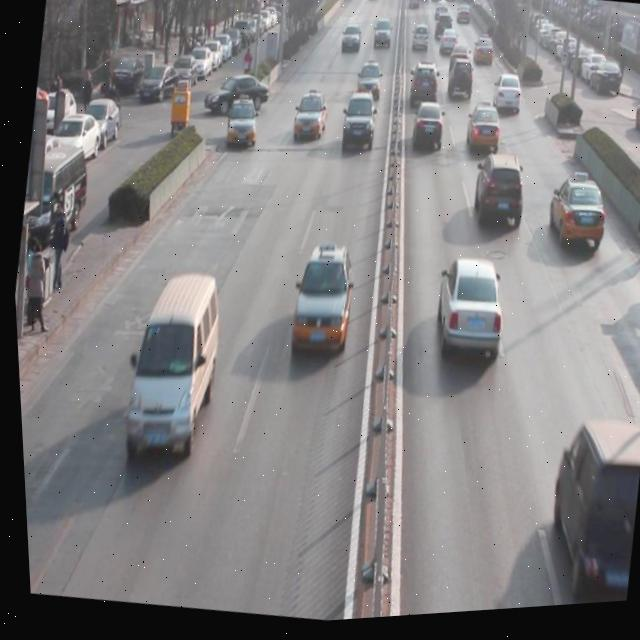car: (425, 256, 510, 375), (281, 240, 359, 364), (540, 177, 612, 263), (468, 154, 528, 243), (335, 93, 379, 160), (462, 106, 506, 164), (288, 92, 331, 148), (408, 101, 447, 158), (222, 99, 261, 154), (404, 61, 442, 117), (489, 74, 525, 124), (445, 59, 477, 107), (352, 64, 384, 108), (338, 25, 364, 61), (370, 23, 393, 57)
truck: (113, 272, 230, 466), (532, 418, 640, 613)
